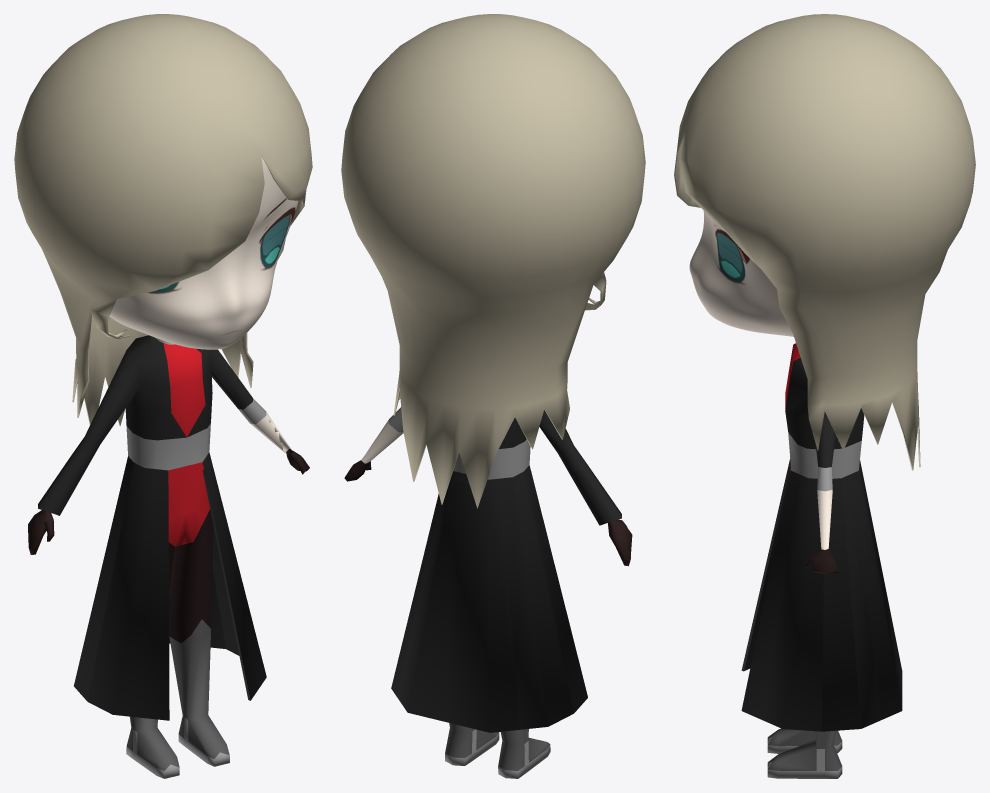
Rendered from HEARTS_BLACK.fbx.
3 views of the same model, side by side, from view 1: azimuth 30°, elevation 25°; view 2: azimuth 150°, elevation 25°; view 3: azimuth 270°, elevation 25° (orthographic). The views are drawn at different scales.
Visible parts, largest first — view 1: Sphere.002, Cube.003, Sphere.003; view 2: Sphere.002, Cube.003; view 3: Sphere.002, Cube.003, Sphere.003.
Part boxes in pixels (<box>): Sphere.002: <box>14,14,312,425</box>; Cube.003: <box>28,335,309,778</box>; Sphere.003: <box>109,157,298,349</box>; Sphere.002: <box>341,14,645,508</box>; Cube.003: <box>344,407,632,778</box>; Sphere.002: <box>674,14,975,470</box>; Cube.003: <box>741,343,902,778</box>; Sphere.003: <box>689,211,793,336</box>.
Bounding box in the file's own units: 319 × 787 × 295.
11 materials, 2 textured.
